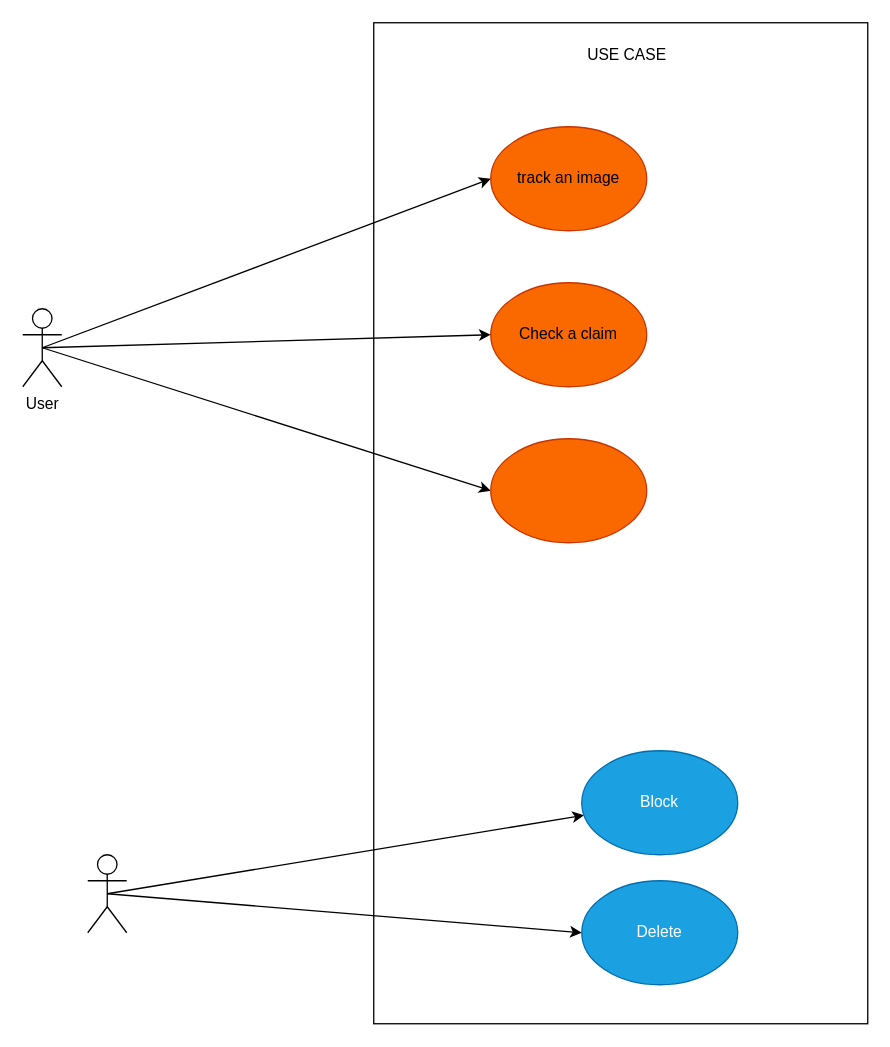
This 890x1047 diagram has some shape labels left out. The centre of each missing label's shape, as x and y in pixels:
"Admin" belongs at point 106,893.
"Go deeper" belongs at point 568,490.
